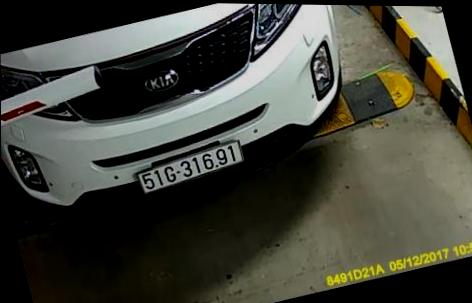License_Plate: (135, 138, 247, 201)
